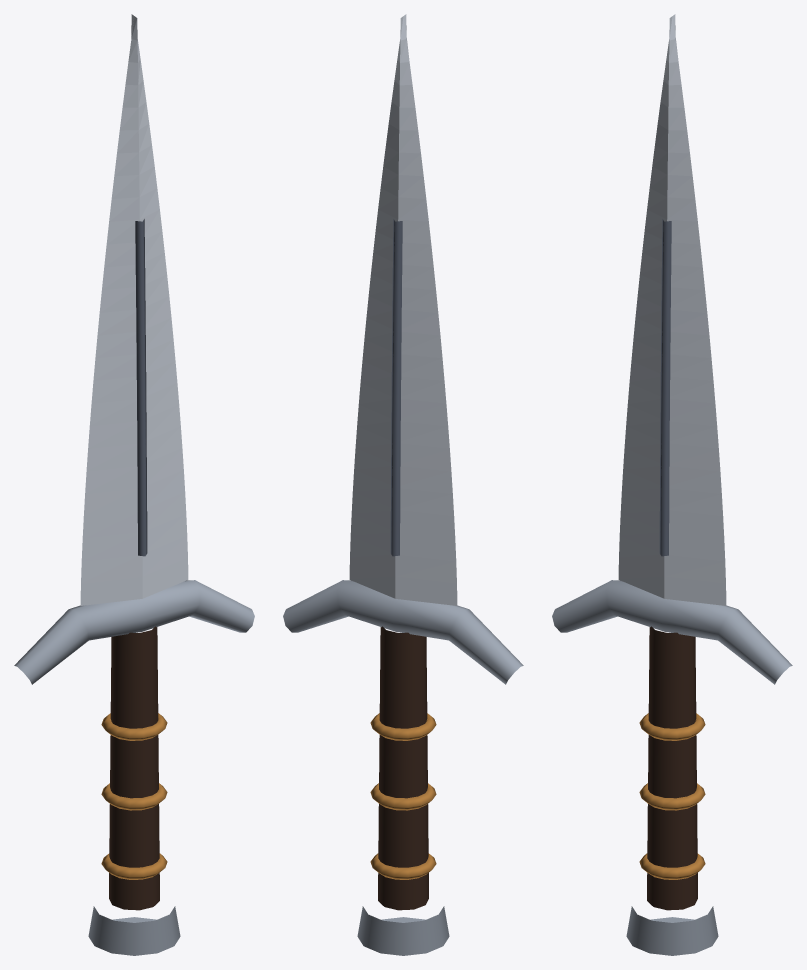
The model's file is dagger_1.glb.
The picture shows the model from 3 angles, left to right: view 1: azimuth 30°, elevation 25°; view 2: azimuth 150°, elevation 25°; view 3: azimuth 330°, elevation 25°; orthographic projection.
Visible parts, largest first — view 1: dagger_1; view 2: dagger_1; view 3: dagger_1.
Part boxes in pixels (x1,y1,x2,y2): dagger_1: [14, 14, 254, 955]; dagger_1: [283, 14, 523, 955]; dagger_1: [552, 14, 792, 955].
Size of the model in its own units: 0.2005 by 0.75 by 0.068.
